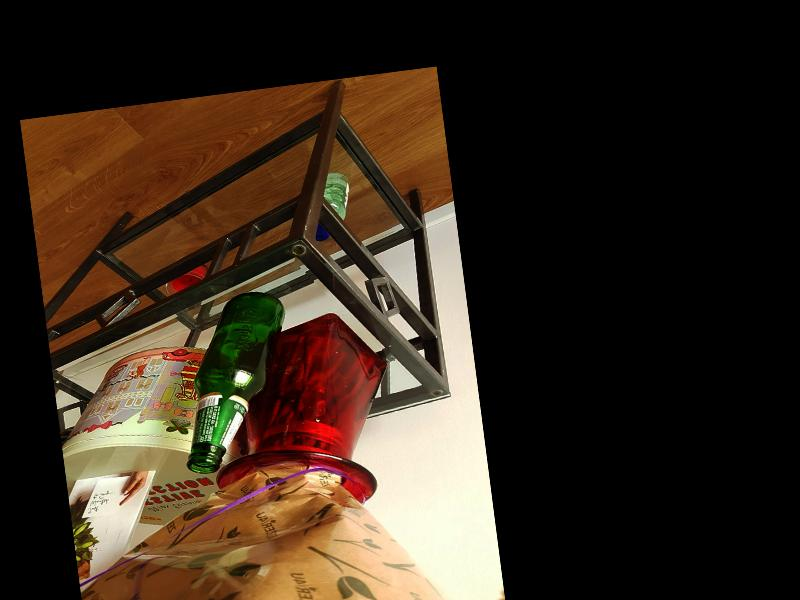Beer: (168, 288, 303, 475)
